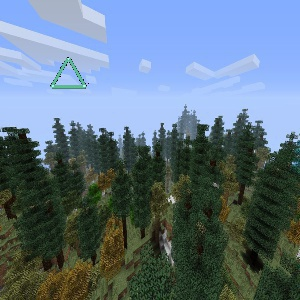triangle: (50, 55, 90, 91)
